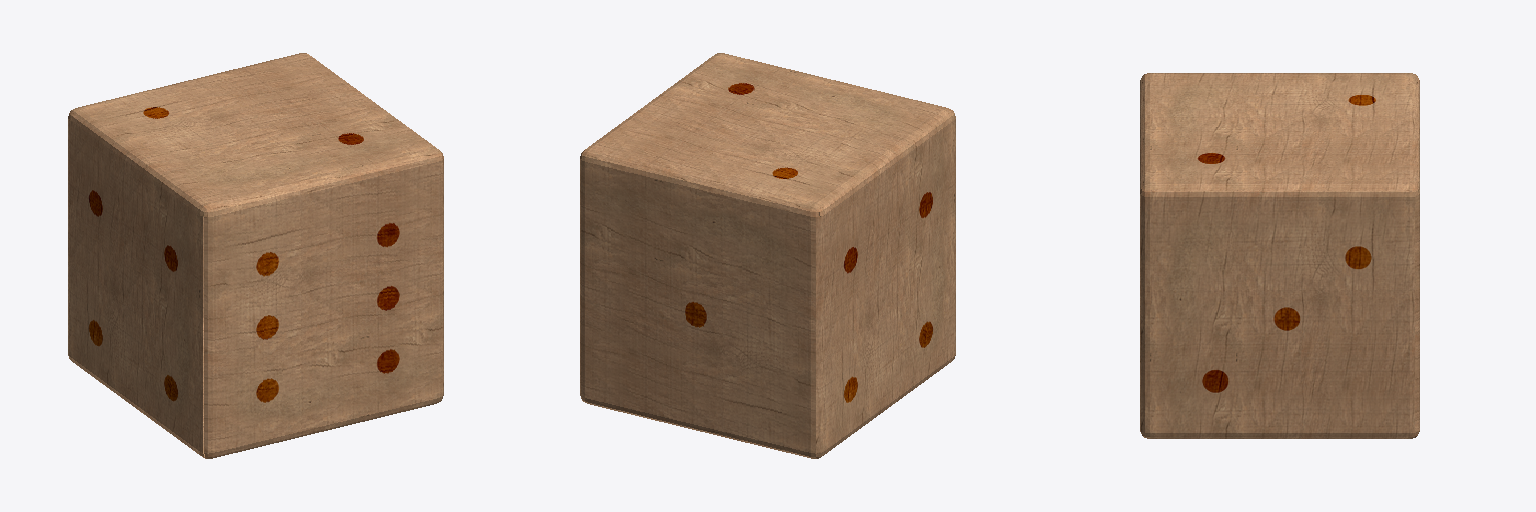
3 renders of one model, left to right at view 1: azimuth 30°, elevation 25°; view 2: azimuth 150°, elevation 25°; view 3: azimuth 270°, elevation 25°, orthographic.
Parts seen in each view (by area): view 1: Cube; view 2: Cube; view 3: Cube.
Part boxes in pixels (x1,y1,x2,y2): Cube: (68, 53, 443, 458); Cube: (580, 53, 955, 458); Cube: (1140, 73, 1419, 438).
Size of the model in its own units: 2 by 2 by 2.
1 materials, 1 textured.